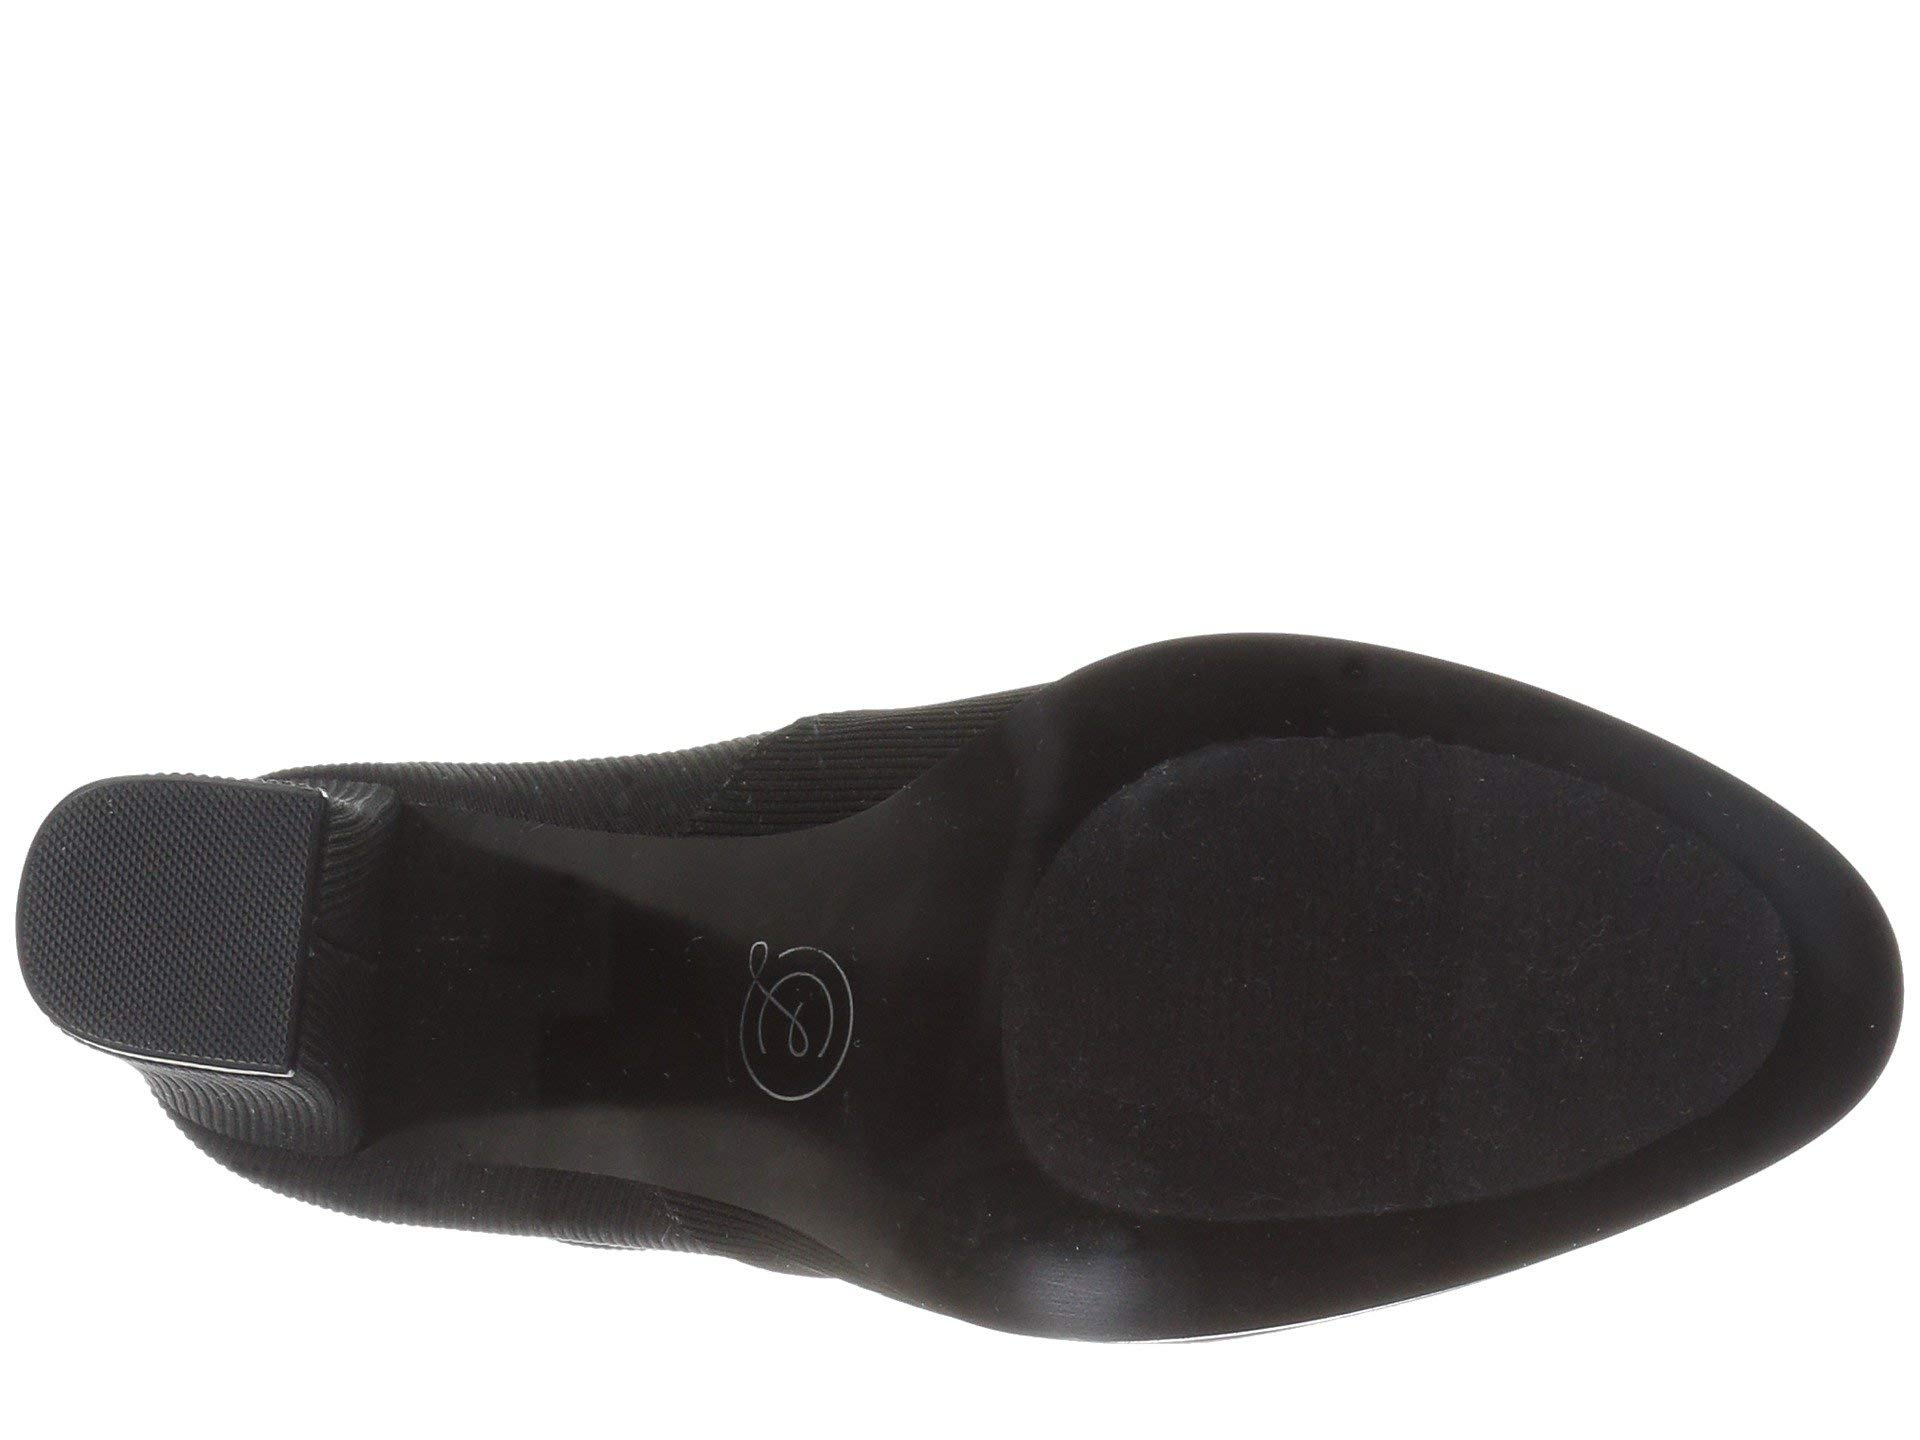quad: (65, 827, 289, 991)
